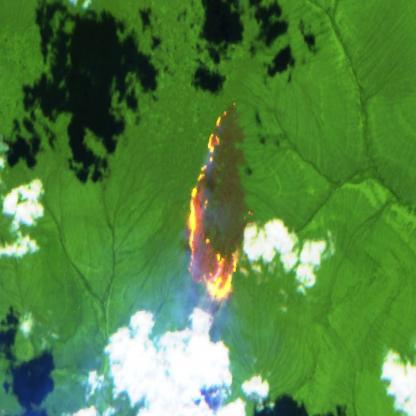fire: (183, 97, 256, 309)
